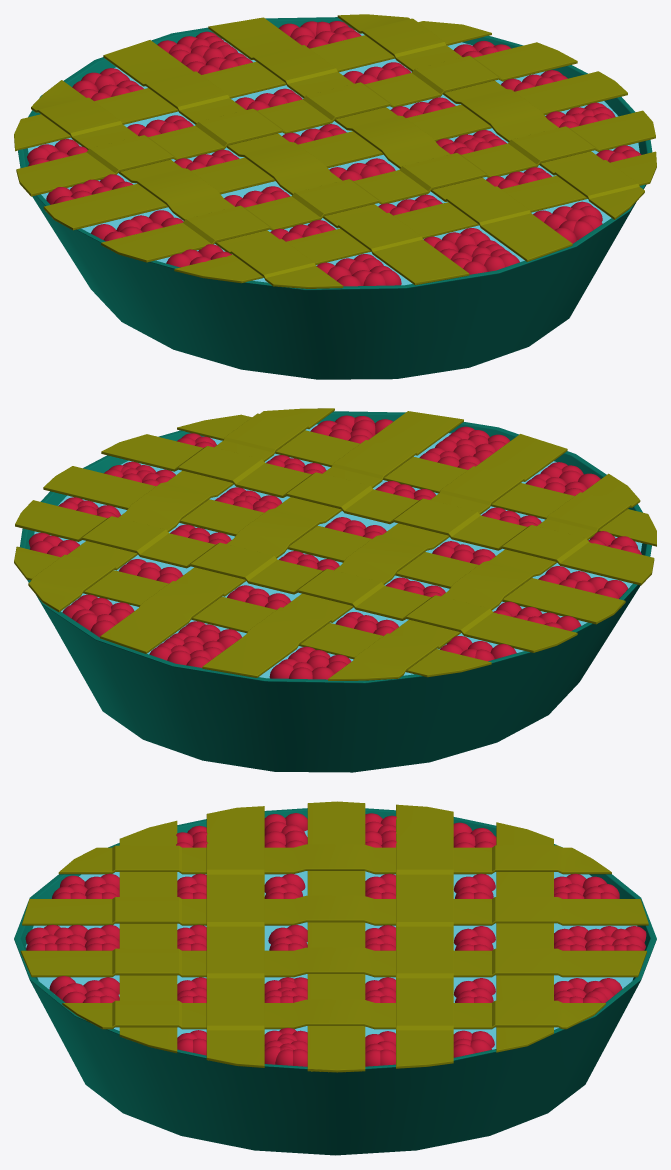
The model's file is Pie_low 2.fbx.
3 renders of one model, top to bottom at view 1: azimuth 30°, elevation 25°; view 2: azimuth 150°, elevation 25°; view 3: azimuth 270°, elevation 25°, orthographic.
Parts seen in each view (by area): view 1: Crust_low, Dish_low, Grape_low, Base_low; view 2: Crust_low, Dish_low, Grape_low, Base_low; view 3: Crust_low, Dish_low, Grape_low, Base_low.
Part boxes in pixels (bbox=[...]): Crust_low: bbox=[14, 14, 656, 288]; Dish_low: bbox=[18, 17, 652, 379]; Grape_low: bbox=[27, 21, 641, 286]; Base_low: bbox=[28, 30, 639, 285]; Crust_low: bbox=[14, 408, 656, 680]; Dish_low: bbox=[20, 411, 651, 772]; Grape_low: bbox=[28, 415, 641, 679]; Base_low: bbox=[34, 424, 642, 678]; Crust_low: bbox=[20, 801, 648, 1072]; Dish_low: bbox=[14, 808, 656, 1155]; Grape_low: bbox=[25, 813, 646, 1066]; Base_low: bbox=[25, 830, 636, 1049].
Bounding box in the file's own units: 128 × 26.81 × 129.
